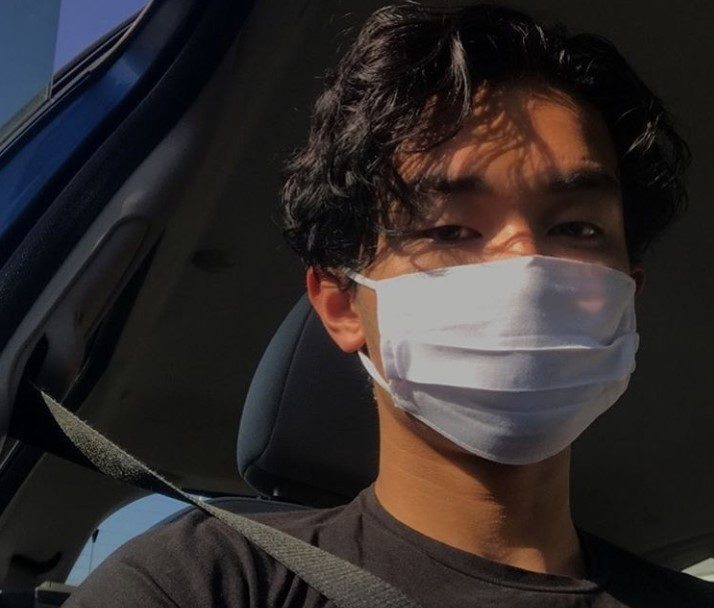face_with_mask: (287, 26, 642, 464)
